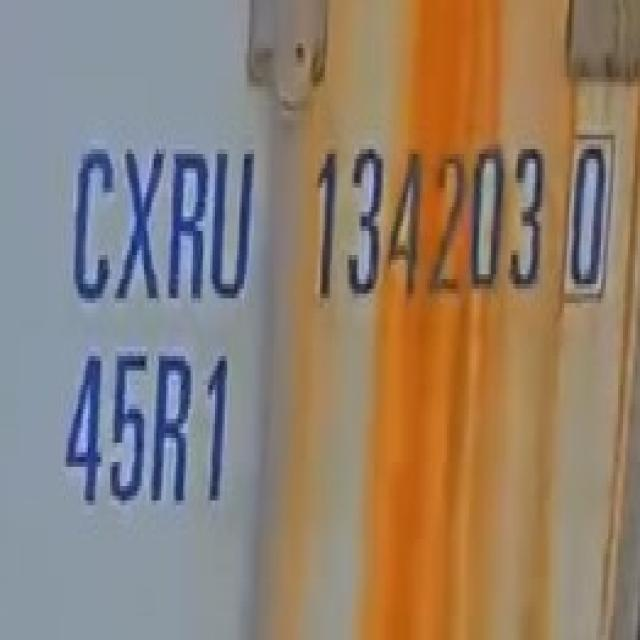dv: (558, 110, 616, 306)
owner: (59, 131, 263, 306)
serial: (307, 114, 550, 315)
size: (58, 327, 245, 515)
